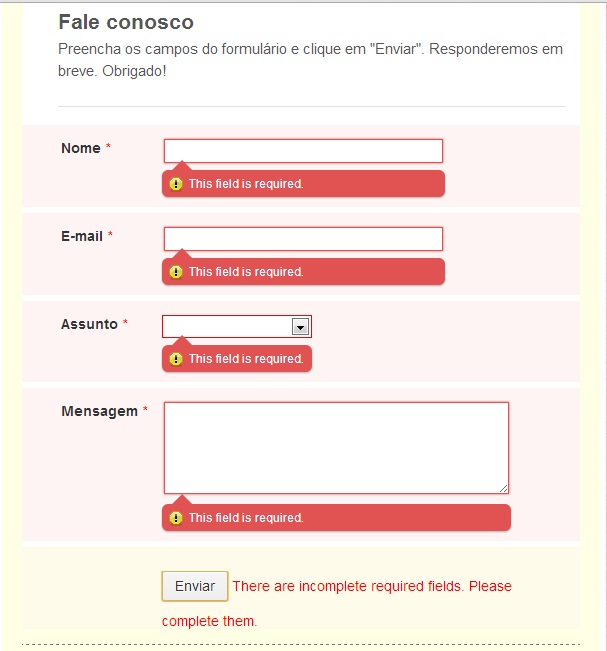error_field: (162, 400, 512, 495), (163, 226, 445, 253), (164, 138, 445, 165), (160, 312, 314, 340)
error_message: (231, 577, 515, 593), (188, 350, 306, 366), (188, 263, 305, 278), (189, 177, 306, 191), (188, 511, 305, 525), (163, 613, 257, 629)
